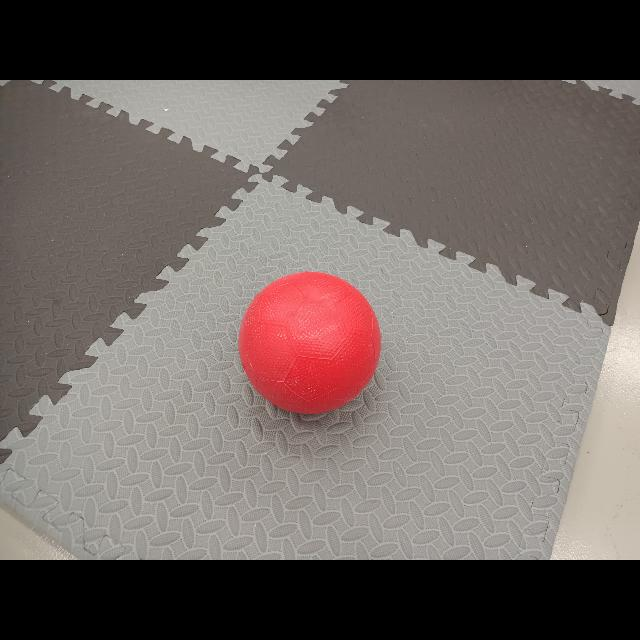R: (239, 272, 381, 414)
